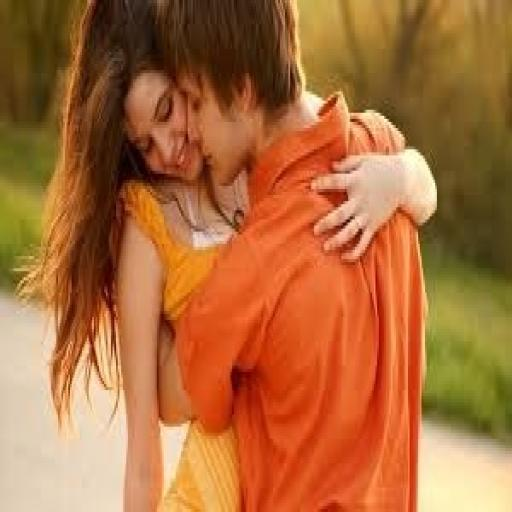hugging: (15, 0, 439, 509)
